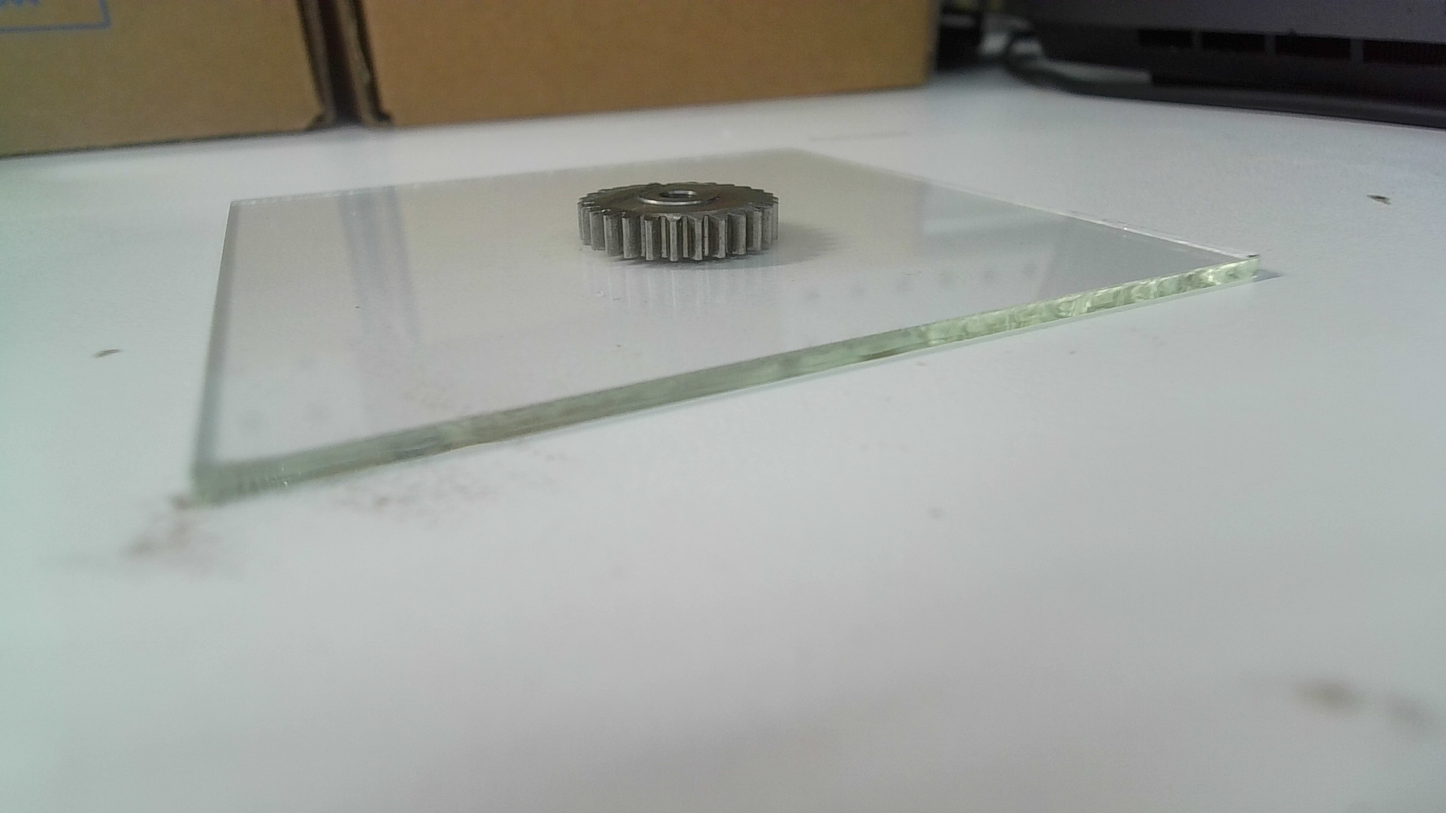gear: (578, 177, 784, 262)
